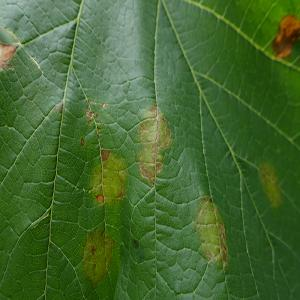Folha: (0, 0, 299, 299)
Fungo: (136, 105, 172, 187), (193, 195, 228, 274), (80, 232, 120, 284), (94, 154, 124, 209), (270, 13, 300, 58), (258, 162, 282, 209), (84, 98, 106, 139), (85, 106, 95, 120), (100, 149, 110, 162), (96, 194, 104, 202), (100, 102, 106, 109), (81, 138, 84, 146)
